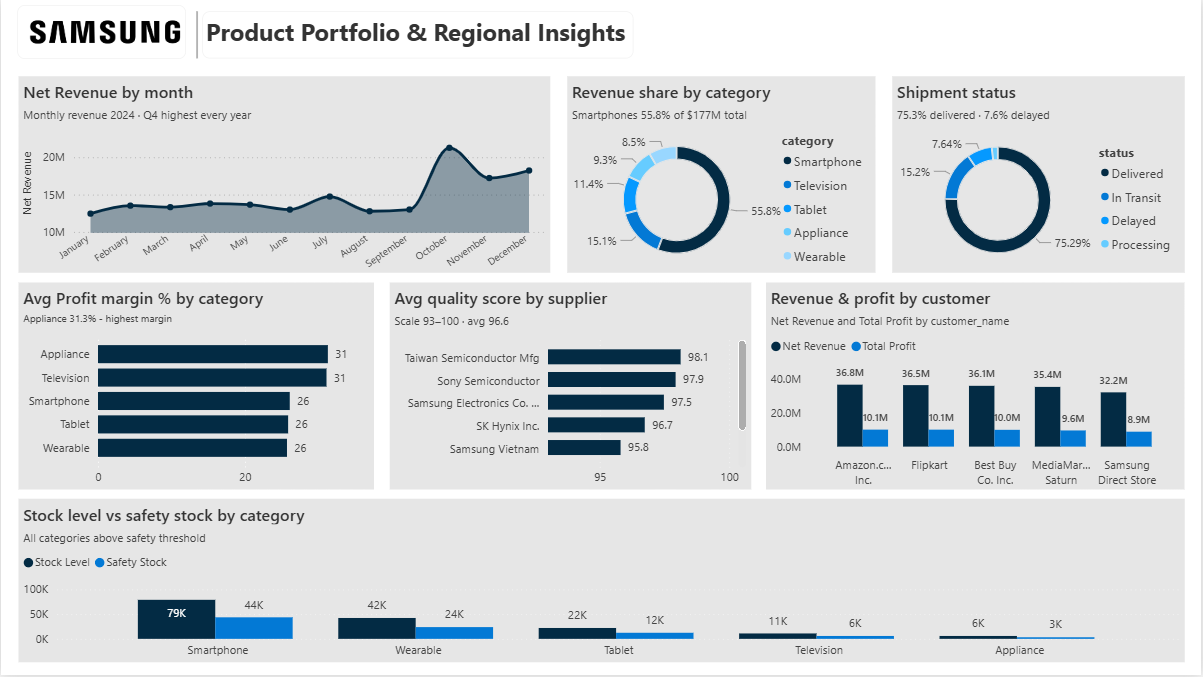

This screenshot's page, from the dashboard's own definition file:
{"tool":"powerbi","page":{"name":"Product Portfolia","canvas":[1280,720],"ordinal":1},"visuals":[{"type":"shape","title":"Product Portfolio & Regional Insights ","box":[214.7,12.3,460.1,50.3],"z":0},{"type":"image","box":[17.2,4.9,180.4,57.7],"z":1000},{"type":"shape","box":[191.4,12.3,34.4,50.3],"z":2000},{"type":"lineChart","title":"Net Revenue by month","fields":{"Category":["dim_date.date.Variation.Date Hierarchy.Month"],"Y":["Measures_Table.Total_Net_Revenue"]},"box":[18.4,81,566.9,209.8],"z":3000},{"type":"donutChart","title":"Revenue share by category","fields":{"Category":["dim_product.category"],"Y":["Sum(fact_sales.net_revenue)"]},"box":[603.7,81,328.8,209.8],"z":4000},{"type":"clusteredBarChart","title":"Avg Profit margin % by category","fields":{"Category":["dim_product.category"],"Y":["Measures_Table.Avg_Profit_Margin_Pct"]},"box":[18.4,301.4,379.1,220.9],"z":5000},{"type":"donutChart","title":"Shipment status","fields":{"Category":["fact_shipment.status"],"Y":["Measures_Table.Total_Shipments"]},"box":[950.9,81,311.7,209.8],"z":6000},{"type":"clusteredColumnChart","title":"Revenue & profit by customer","fields":{"Category":["dim_customer.customer_name"],"Y":["Measures_Table.Total_Net_Revenue","Measures_Table.Total_Profit"]},"box":[816,301.8,446.6,220.9],"z":7000},{"type":"clusteredBarChart","title":"Avg quality score by supplier","fields":{"Category":["dim_supplier.supplier_name"],"Y":["Measures_Table.Avg_Quality_Score"]},"box":[414.1,301.8,385.3,220.9],"z":8000},{"type":"clusteredColumnChart","title":"Stock level vs safety stock by category","fields":{"Category":["dim_product.category"],"Y":["Measures_Table.Total_Stock_Level","Measures_Table.Total_Safety_Stock"]},"box":[18.4,532.5,1244.2,174.2],"z":9000}]}

Visuals, with their boxes in screenshot pixels (x1, y1, x2, y2), scaled from the page's 1280x720 canvas onto the 1203x677 screenshot:
"Product Portfolio & Regional Insights " shape: bbox=[202, 12, 634, 59]
image: bbox=[16, 5, 186, 59]
shape: bbox=[180, 12, 212, 59]
"Net Revenue by month" lineChart: bbox=[17, 76, 550, 273]
"Revenue share by category" donutChart: bbox=[567, 76, 876, 273]
"Avg Profit margin % by category" clusteredBarChart: bbox=[17, 283, 374, 491]
"Shipment status" donutChart: bbox=[894, 76, 1187, 273]
"Revenue & profit by customer" clusteredColumnChart: bbox=[767, 284, 1187, 491]
"Avg quality score by supplier" clusteredBarChart: bbox=[389, 284, 751, 491]
"Stock level vs safety stock by category" clusteredColumnChart: bbox=[17, 501, 1187, 664]
